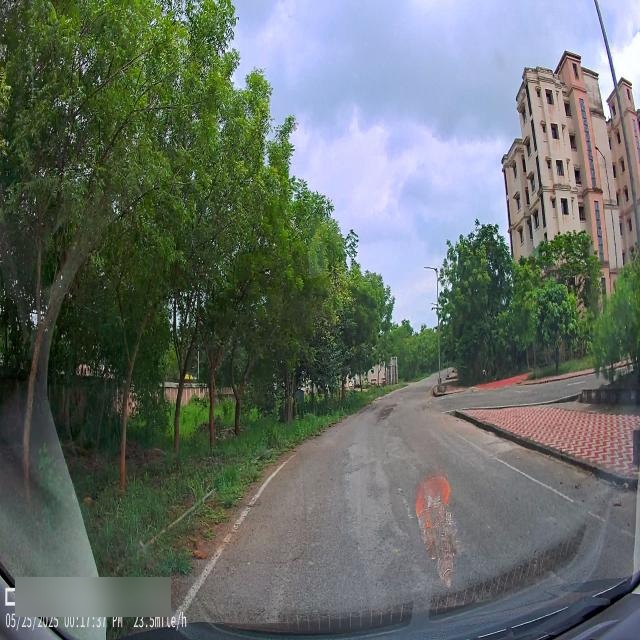pothole: (373, 399, 397, 426)
